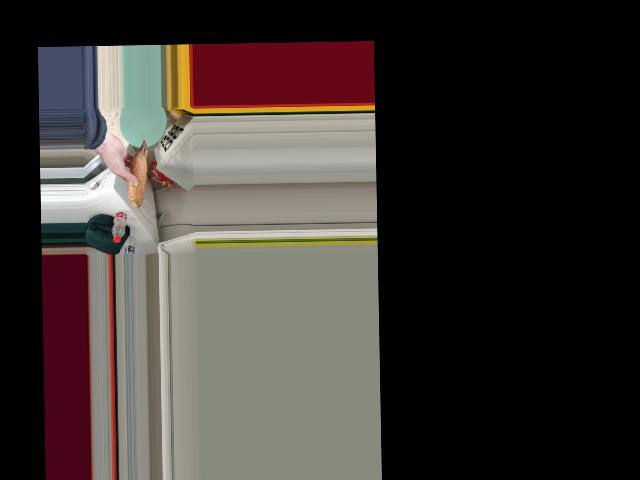sweet_potato: (130, 135, 150, 211)
